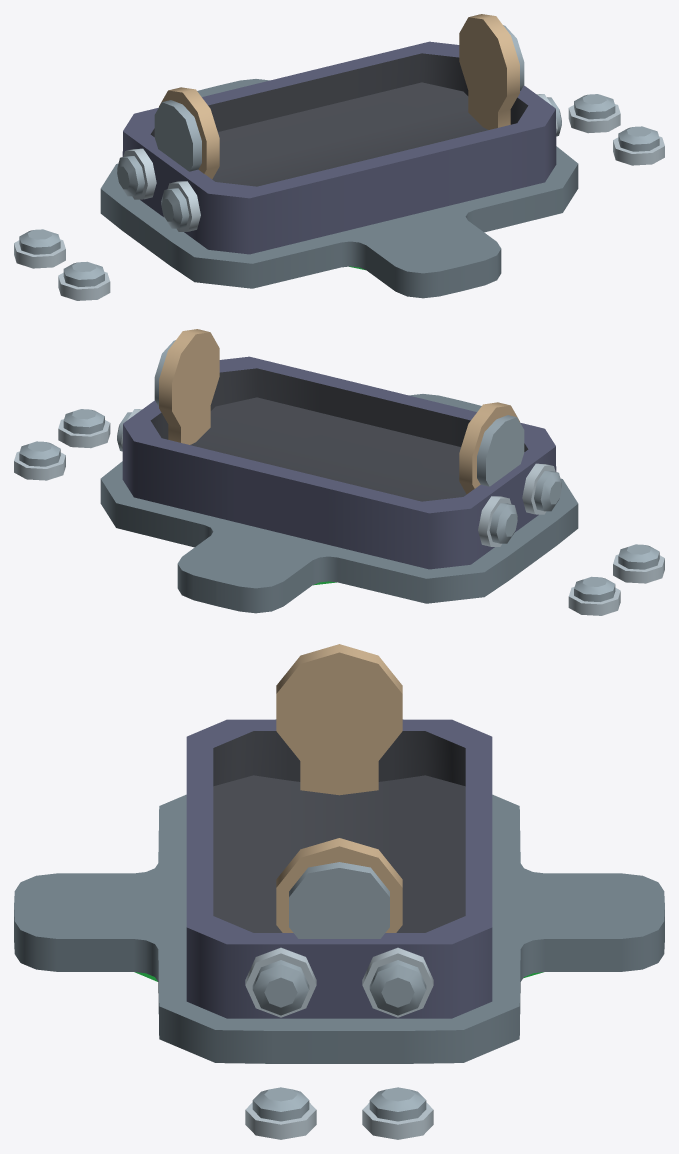
Rendered from BatteryHolder.fbx.
3 renders of one model, top to bottom at view 1: azimuth 30°, elevation 25°; view 2: azimuth 150°, elevation 25°; view 3: azimuth 270°, elevation 25°, orthographic. The views are drawn at different scales.
Parts seen in each view (by area): view 1: BatteryHolder; view 2: BatteryHolder; view 3: BatteryHolder.
Part boxes in pixels (x1=…): BatteryHolder: x1=14, y1=14, x2=664, y2=300; BatteryHolder: x1=14, y1=329, x2=664, y2=615; BatteryHolder: x1=14, y1=644, x2=664, y2=1139.
Bounding box in the file's own units: 199 × 47.95 × 141.
